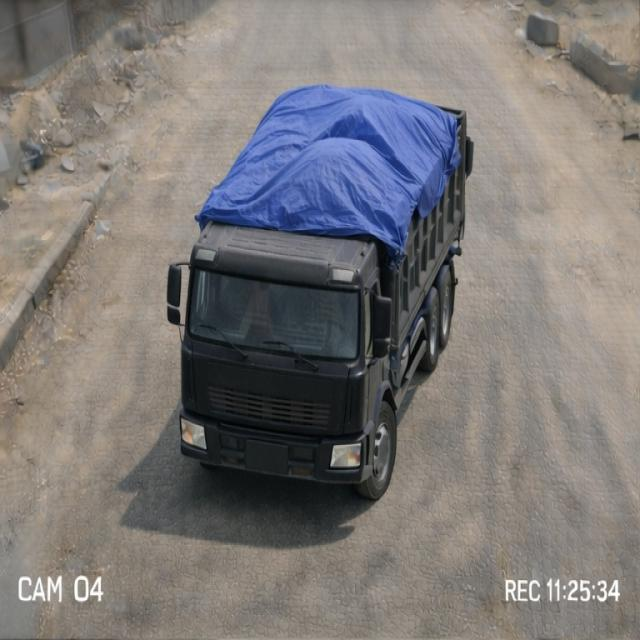trailer: (192, 82, 469, 224)
truck: (166, 64, 473, 500)
